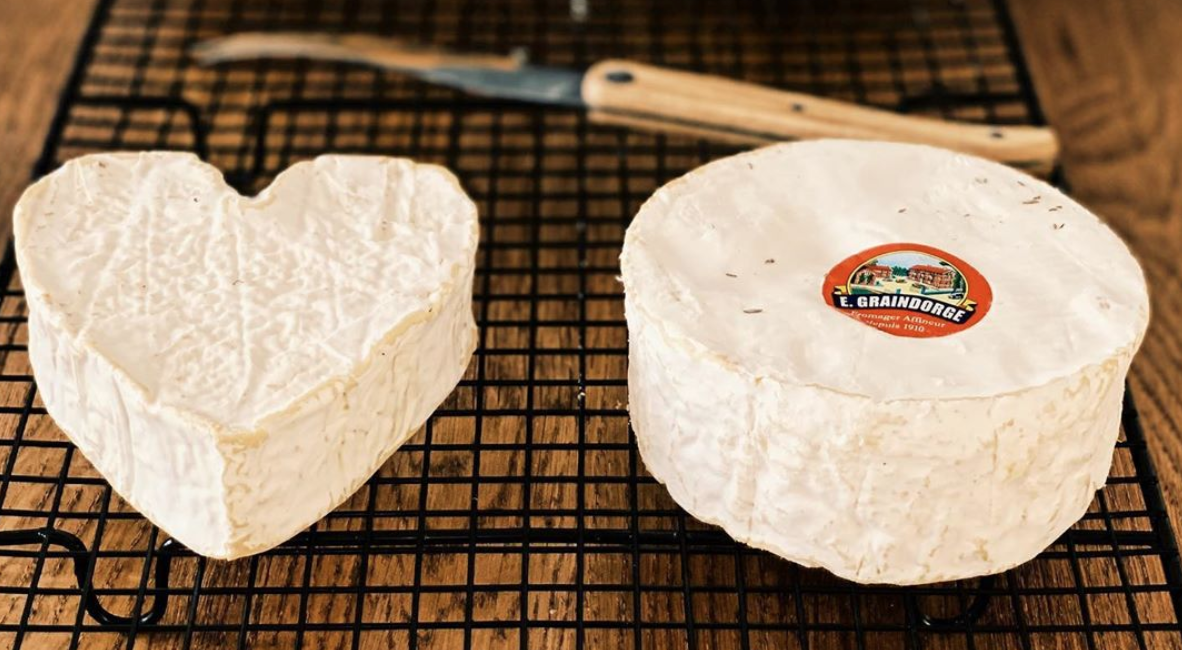camembert: (616, 140, 1155, 588), (10, 148, 483, 568)
